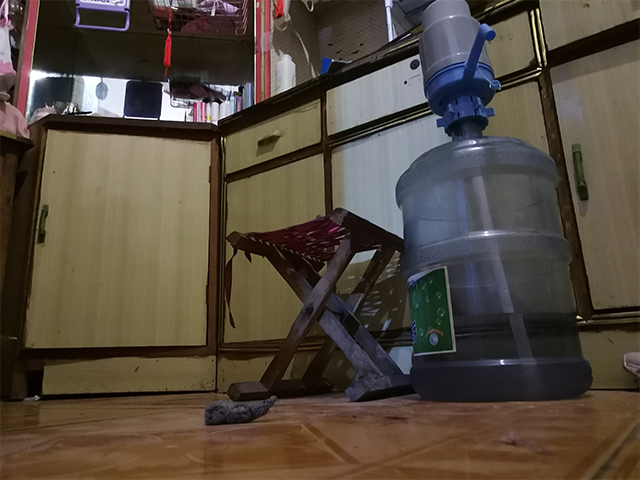cabinet: (11, 118, 226, 391)
feces: (203, 394, 279, 427)
fecesstool: (225, 204, 420, 405)
